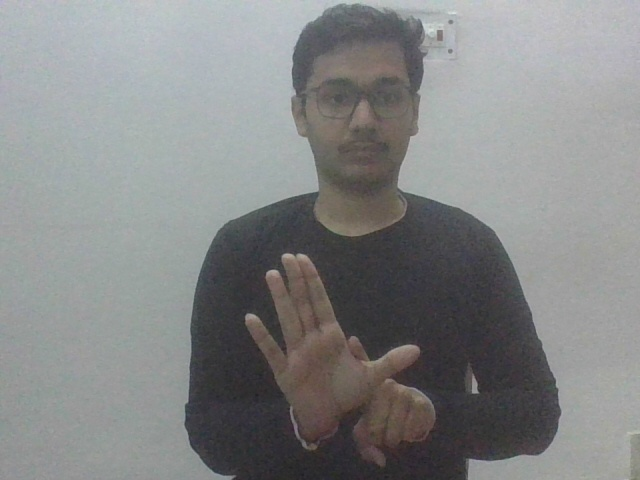Y: (241, 244, 441, 470)
